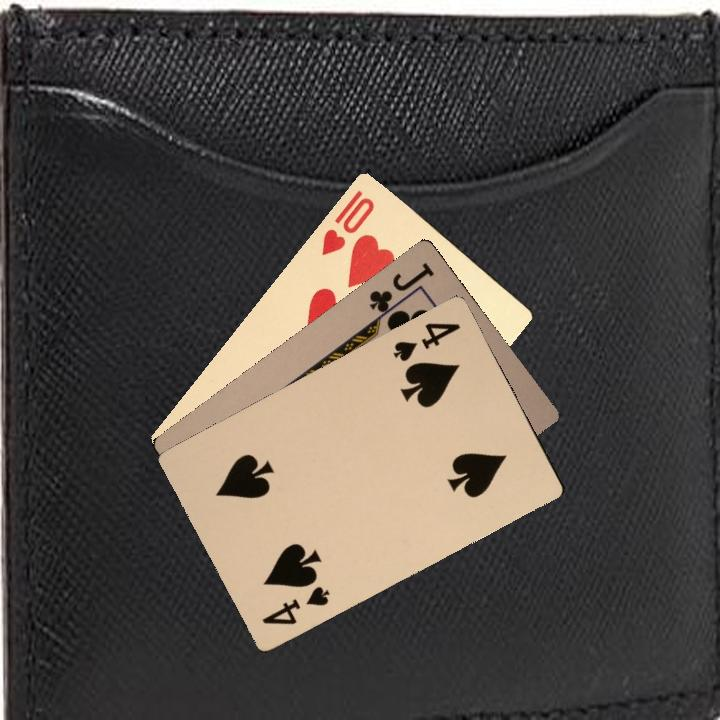10h: (317, 186, 377, 258)
4s: (389, 318, 463, 365), (258, 582, 332, 628)
Jc: (364, 257, 437, 325)
